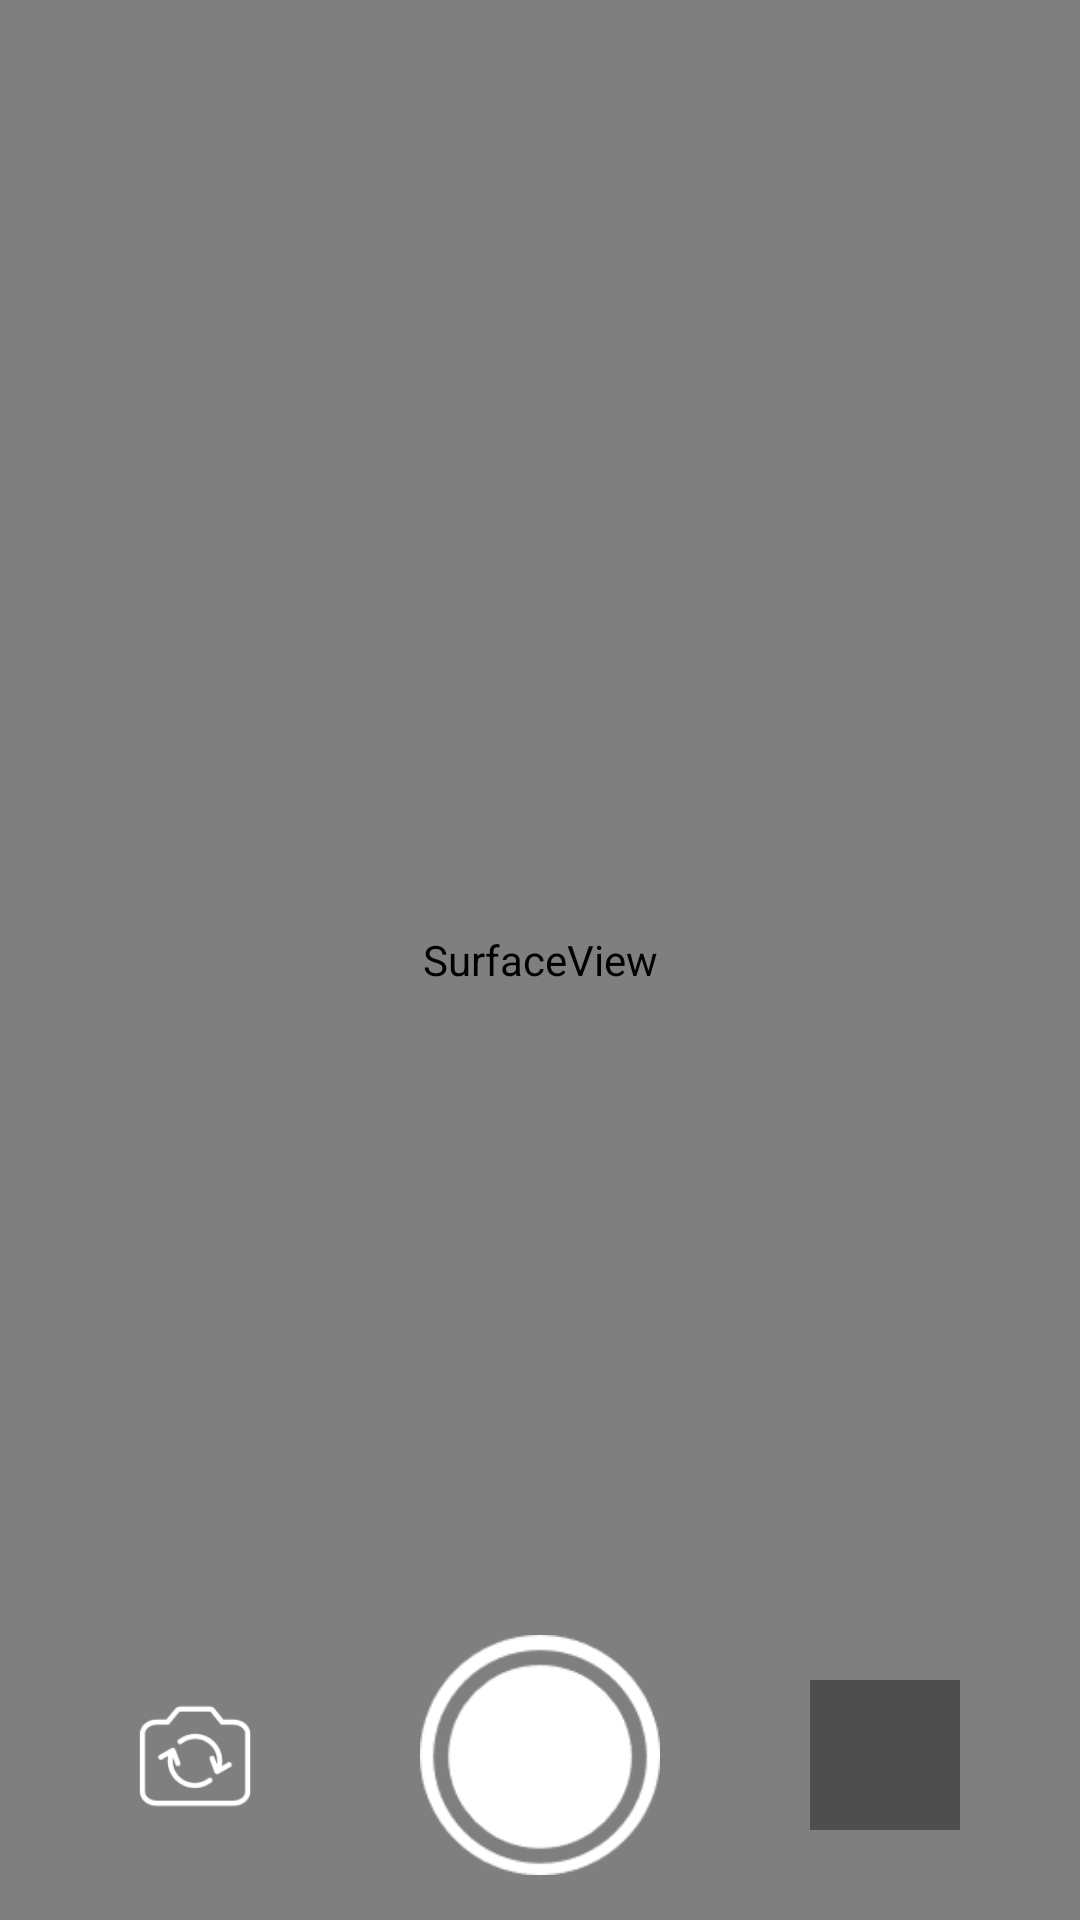

Icon bounding boxes for this 1080x1920 phone screenshot, format (x1, y1, x2, y2):
change: (140, 1706, 251, 1807)
takephoto: (420, 1635, 660, 1875)
